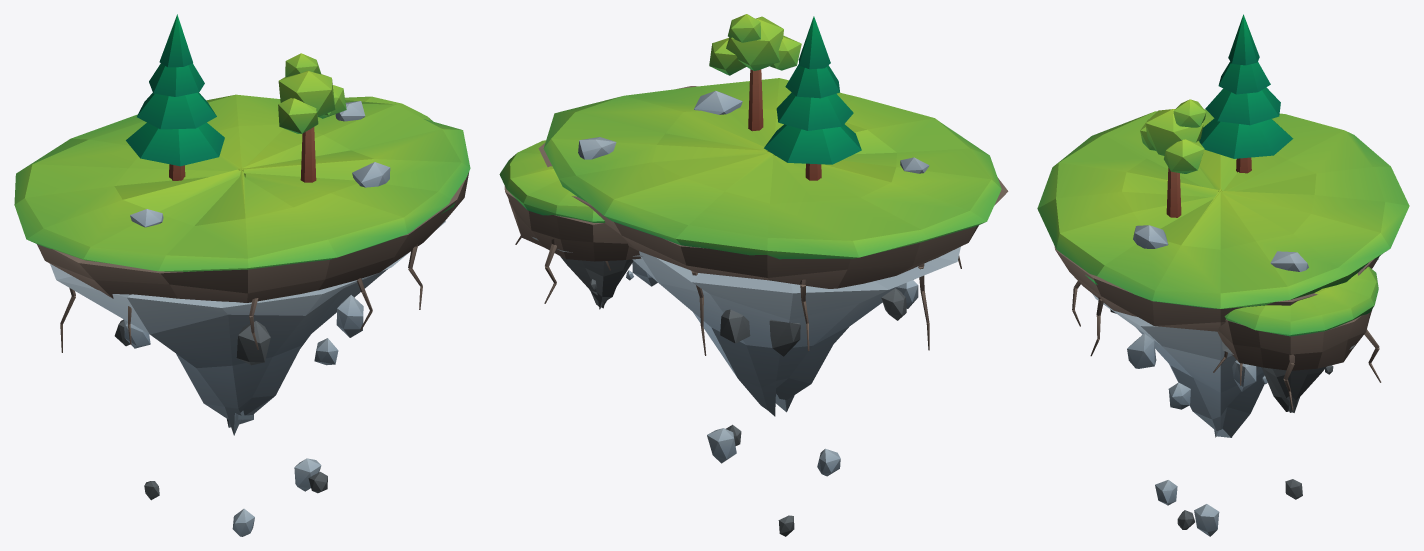
The model's file is floating_isle.glb.
3 views of the same model, side by side, from view 1: azimuth 30°, elevation 25°; view 2: azimuth 150°, elevation 25°; view 3: azimuth 270°, elevation 25° (orthographic). The views are drawn at different scales.
Visible parts, largest first — view 1: floating_isle; view 2: floating_isle; view 3: floating_isle.
Part boxes in pixels (box(x1,y1,x2,y2)): floating_isle: box(14, 14, 470, 536); floating_isle: box(499, 14, 1008, 536); floating_isle: box(1037, 14, 1409, 536).
Bounding box in the file's own units: 21.16 × 22.96 × 15.96.
1 material, 1 textured.
